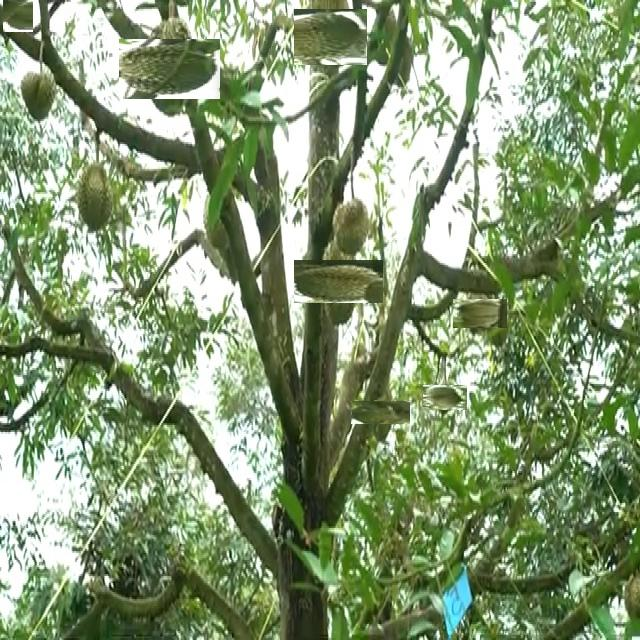durian: (129, 28, 211, 110), (305, 248, 371, 315), (298, 5, 364, 70), (73, 157, 115, 235), (329, 192, 372, 260), (16, 68, 60, 120), (458, 292, 501, 334), (359, 392, 401, 433), (428, 380, 463, 415), (3, 0, 34, 30), (624, 568, 638, 625)
